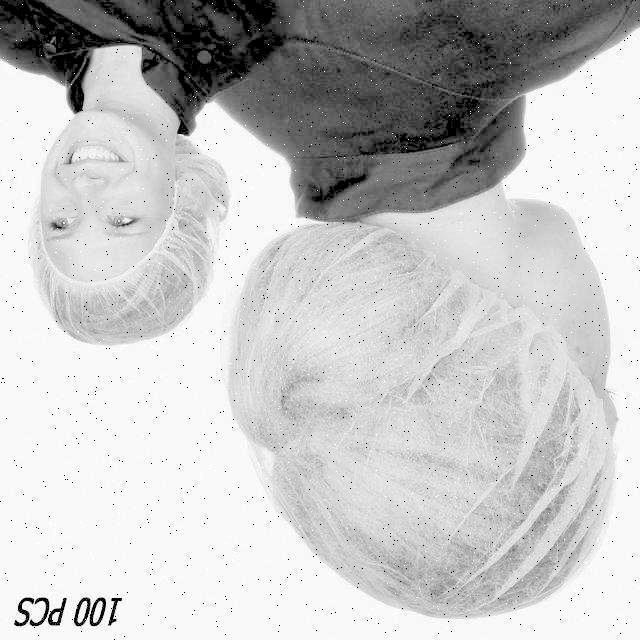gloves: (276, 312, 580, 560), (34, 264, 195, 328)
no_hairnet: (74, 134, 162, 212)
